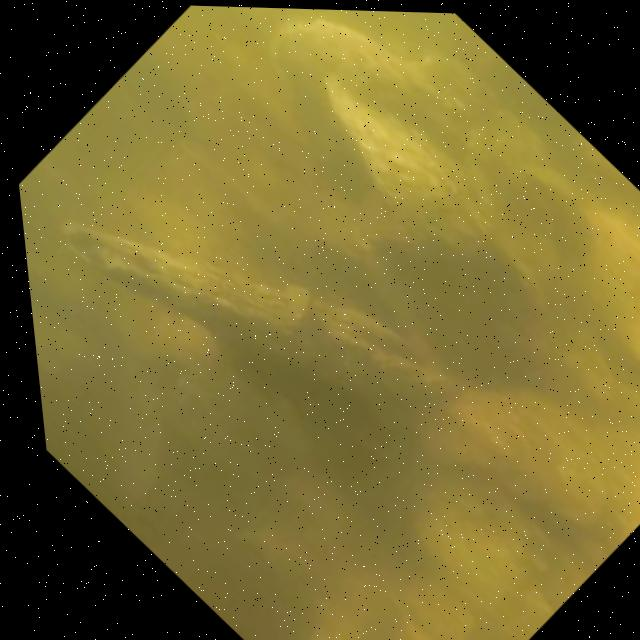Oyster-Closed: (326, 73, 495, 246)
Oyster-Indeterminate: (58, 216, 451, 397), (275, 19, 463, 207), (413, 385, 616, 525)
